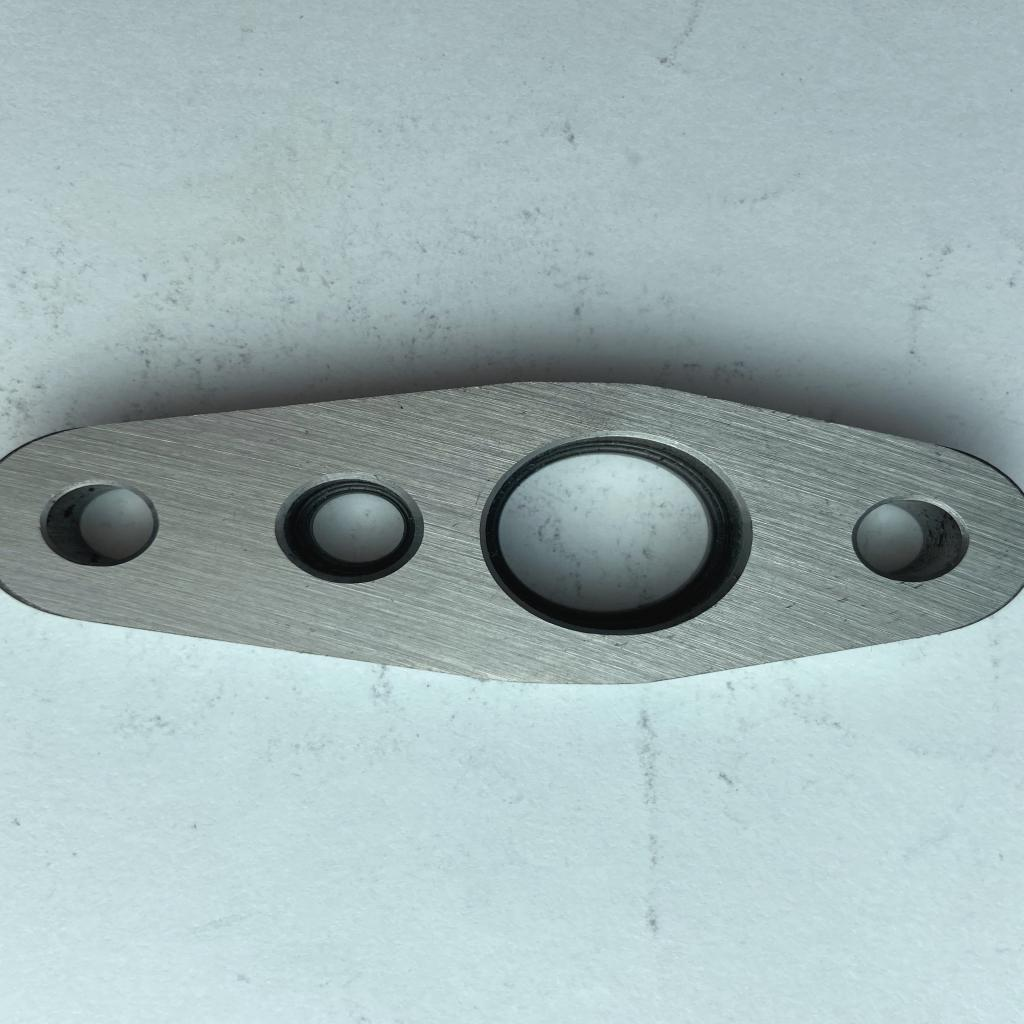lines: (782, 581, 940, 616)
